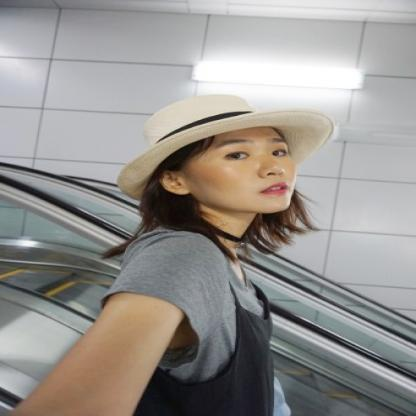hat: (112, 92, 336, 196)
